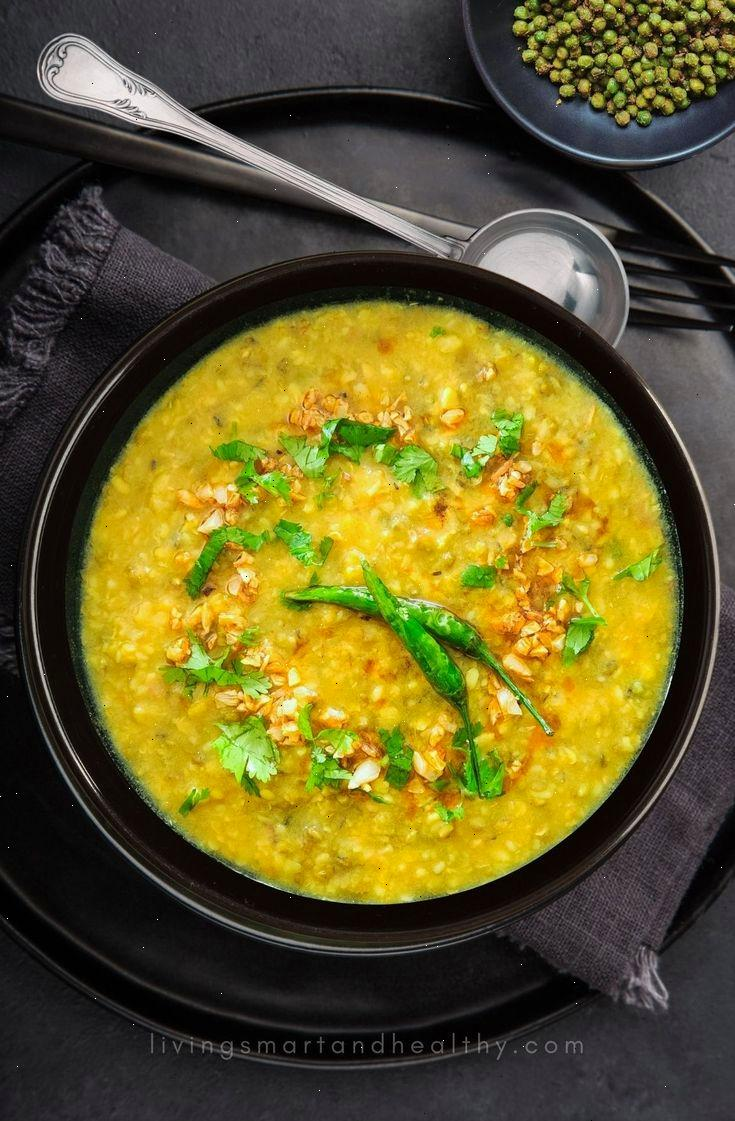daal: (68, 251, 680, 940)
